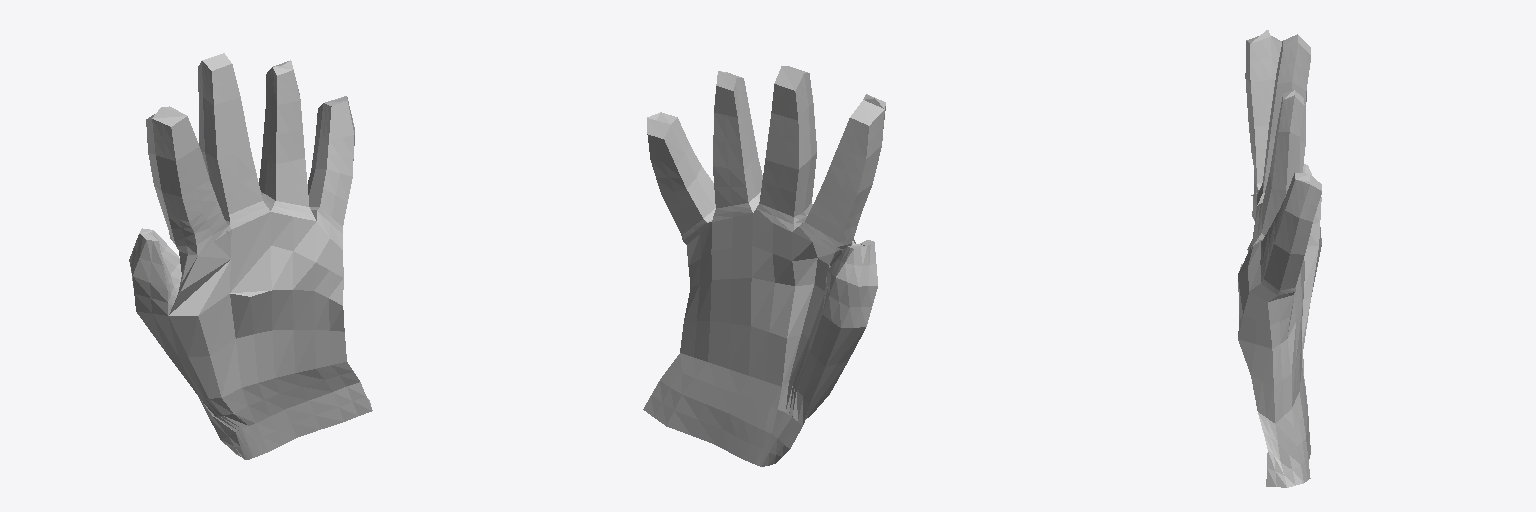
File: hand_sub2.obj
3 renders of one model, left to right at view 1: azimuth 30°, elevation 25°; view 2: azimuth 150°, elevation 25°; view 3: azimuth 270°, elevation 25°, orthographic.
Parts seen in each view (by area): view 1: Hand; view 2: Hand; view 3: Hand.
Boxes of the visible parts, x1,y1,x2,y2 form: Hand: [129, 53, 372, 459]; Hand: [643, 66, 885, 466]; Hand: [1238, 30, 1321, 487].
Size of the model in its own units: 3.02 by 4.98 by 0.9507.